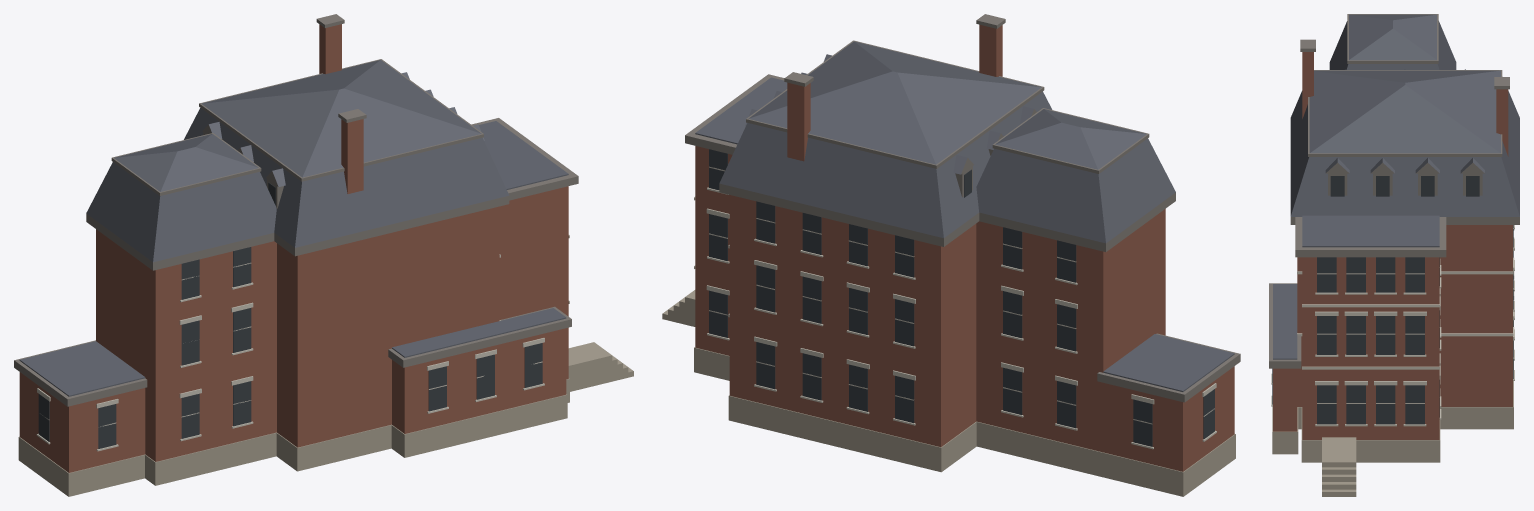
The model's file is wheeler_kohn_house_2018_calumet__draft_1904.glb.
3 views of the same model, side by side, from view 1: azimuth 30°, elevation 25°; view 2: azimuth 150°, elevation 25°; view 3: azimuth 270°, elevation 25° (orthographic). The views are drawn at different scales.
Parts seen in each view (by area): view 1: wheeler_kohn_house_2018_calumet__draft_1904; view 2: wheeler_kohn_house_2018_calumet__draft_1904; view 3: wheeler_kohn_house_2018_calumet__draft_1904.
Part boxes in pixels (bbox=[...]): wheeler_kohn_house_2018_calumet__draft_1904: bbox=[14, 14, 633, 496]; wheeler_kohn_house_2018_calumet__draft_1904: bbox=[662, 14, 1240, 496]; wheeler_kohn_house_2018_calumet__draft_1904: bbox=[1269, 14, 1519, 496].
Size of the model in its own units: 30.65 by 17.98 by 12.8.
